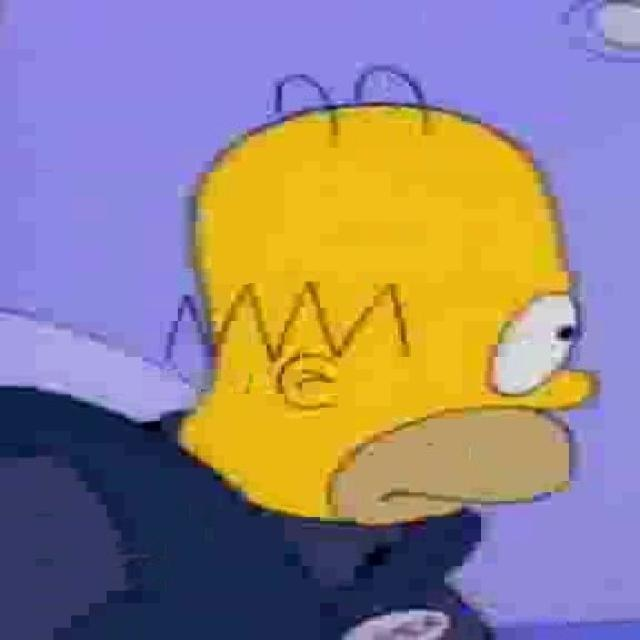Homer Simpson: (171, 64, 602, 530)
